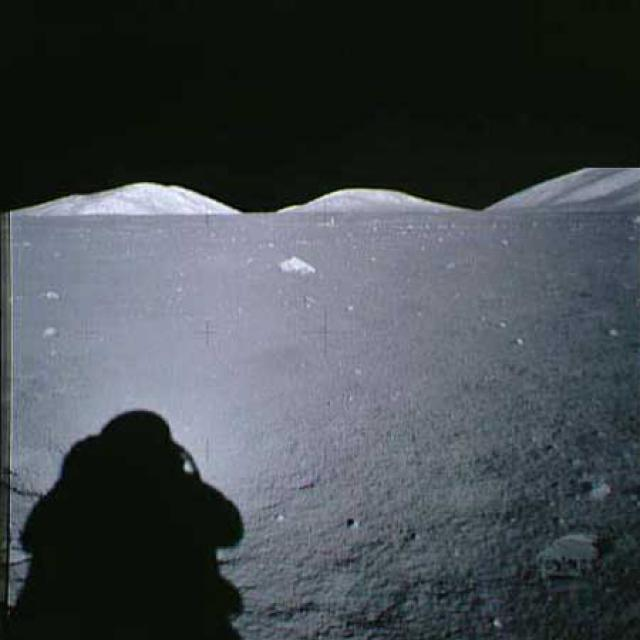rock: (271, 254, 322, 278)
